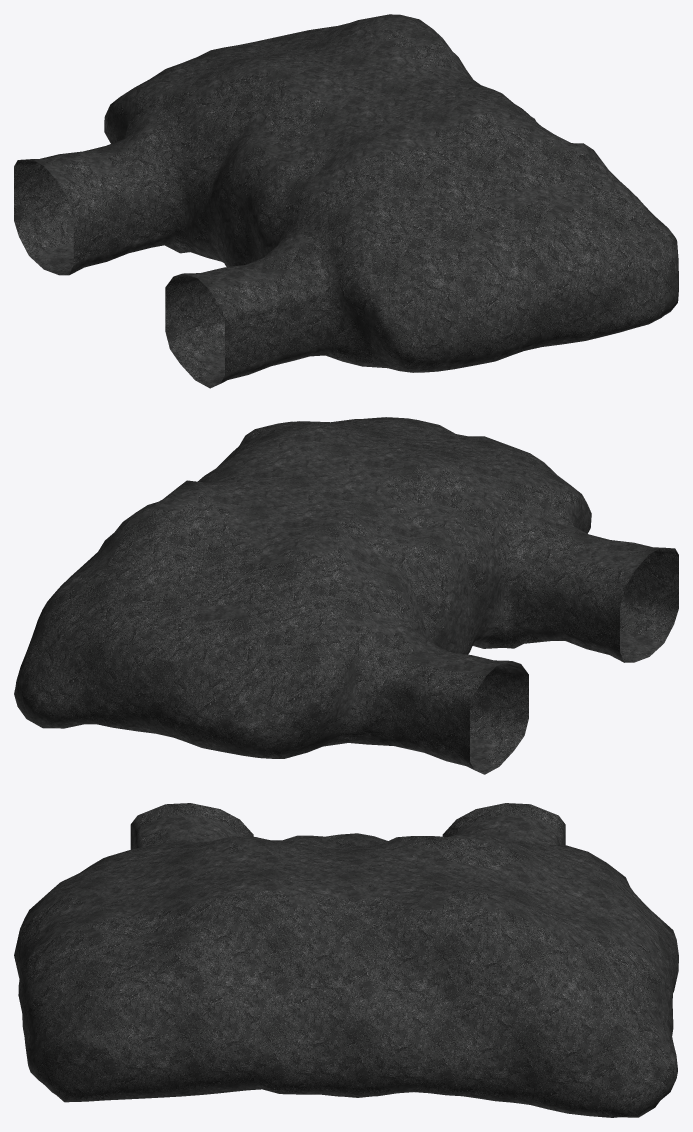
Rendered from room2door.glb.
The picture shows the model from 3 angles, top to bottom: view 1: azimuth 30°, elevation 25°; view 2: azimuth 150°, elevation 25°; view 3: azimuth 270°, elevation 25°; orthographic projection. The views are drawn at different scales.
Visible parts, largest first — view 1: Cube.145; view 2: Cube.145; view 3: Cube.145.
Boxes of the visible parts, box(x1,y1,x2,y2) form: Cube.145: box(14, 14, 678, 388); Cube.145: box(14, 417, 678, 774); Cube.145: box(14, 803, 678, 1117).
Bounding box in the file's own units: 30.72 × 12.35 × 39.2.
Materials: 1 (1 with a texture image).
